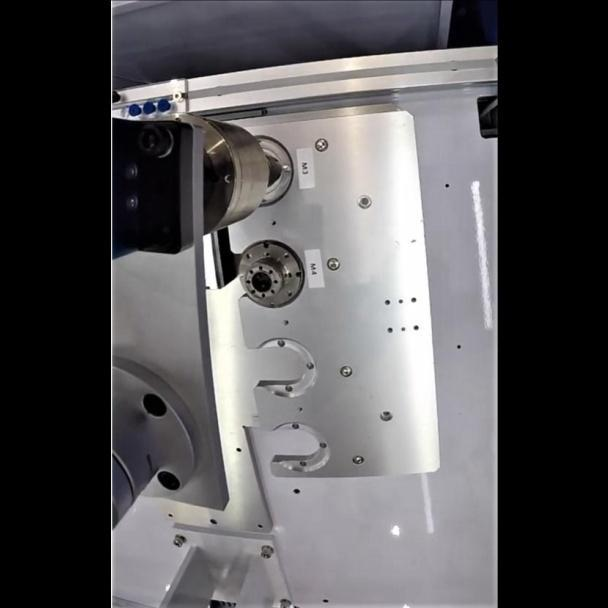hole: (356, 193, 373, 211), (380, 409, 393, 422)
